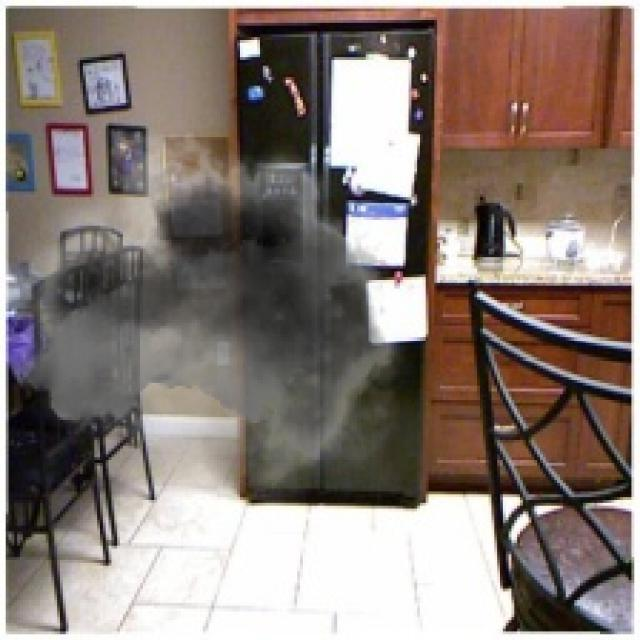Smoke: (8, 111, 423, 534)
